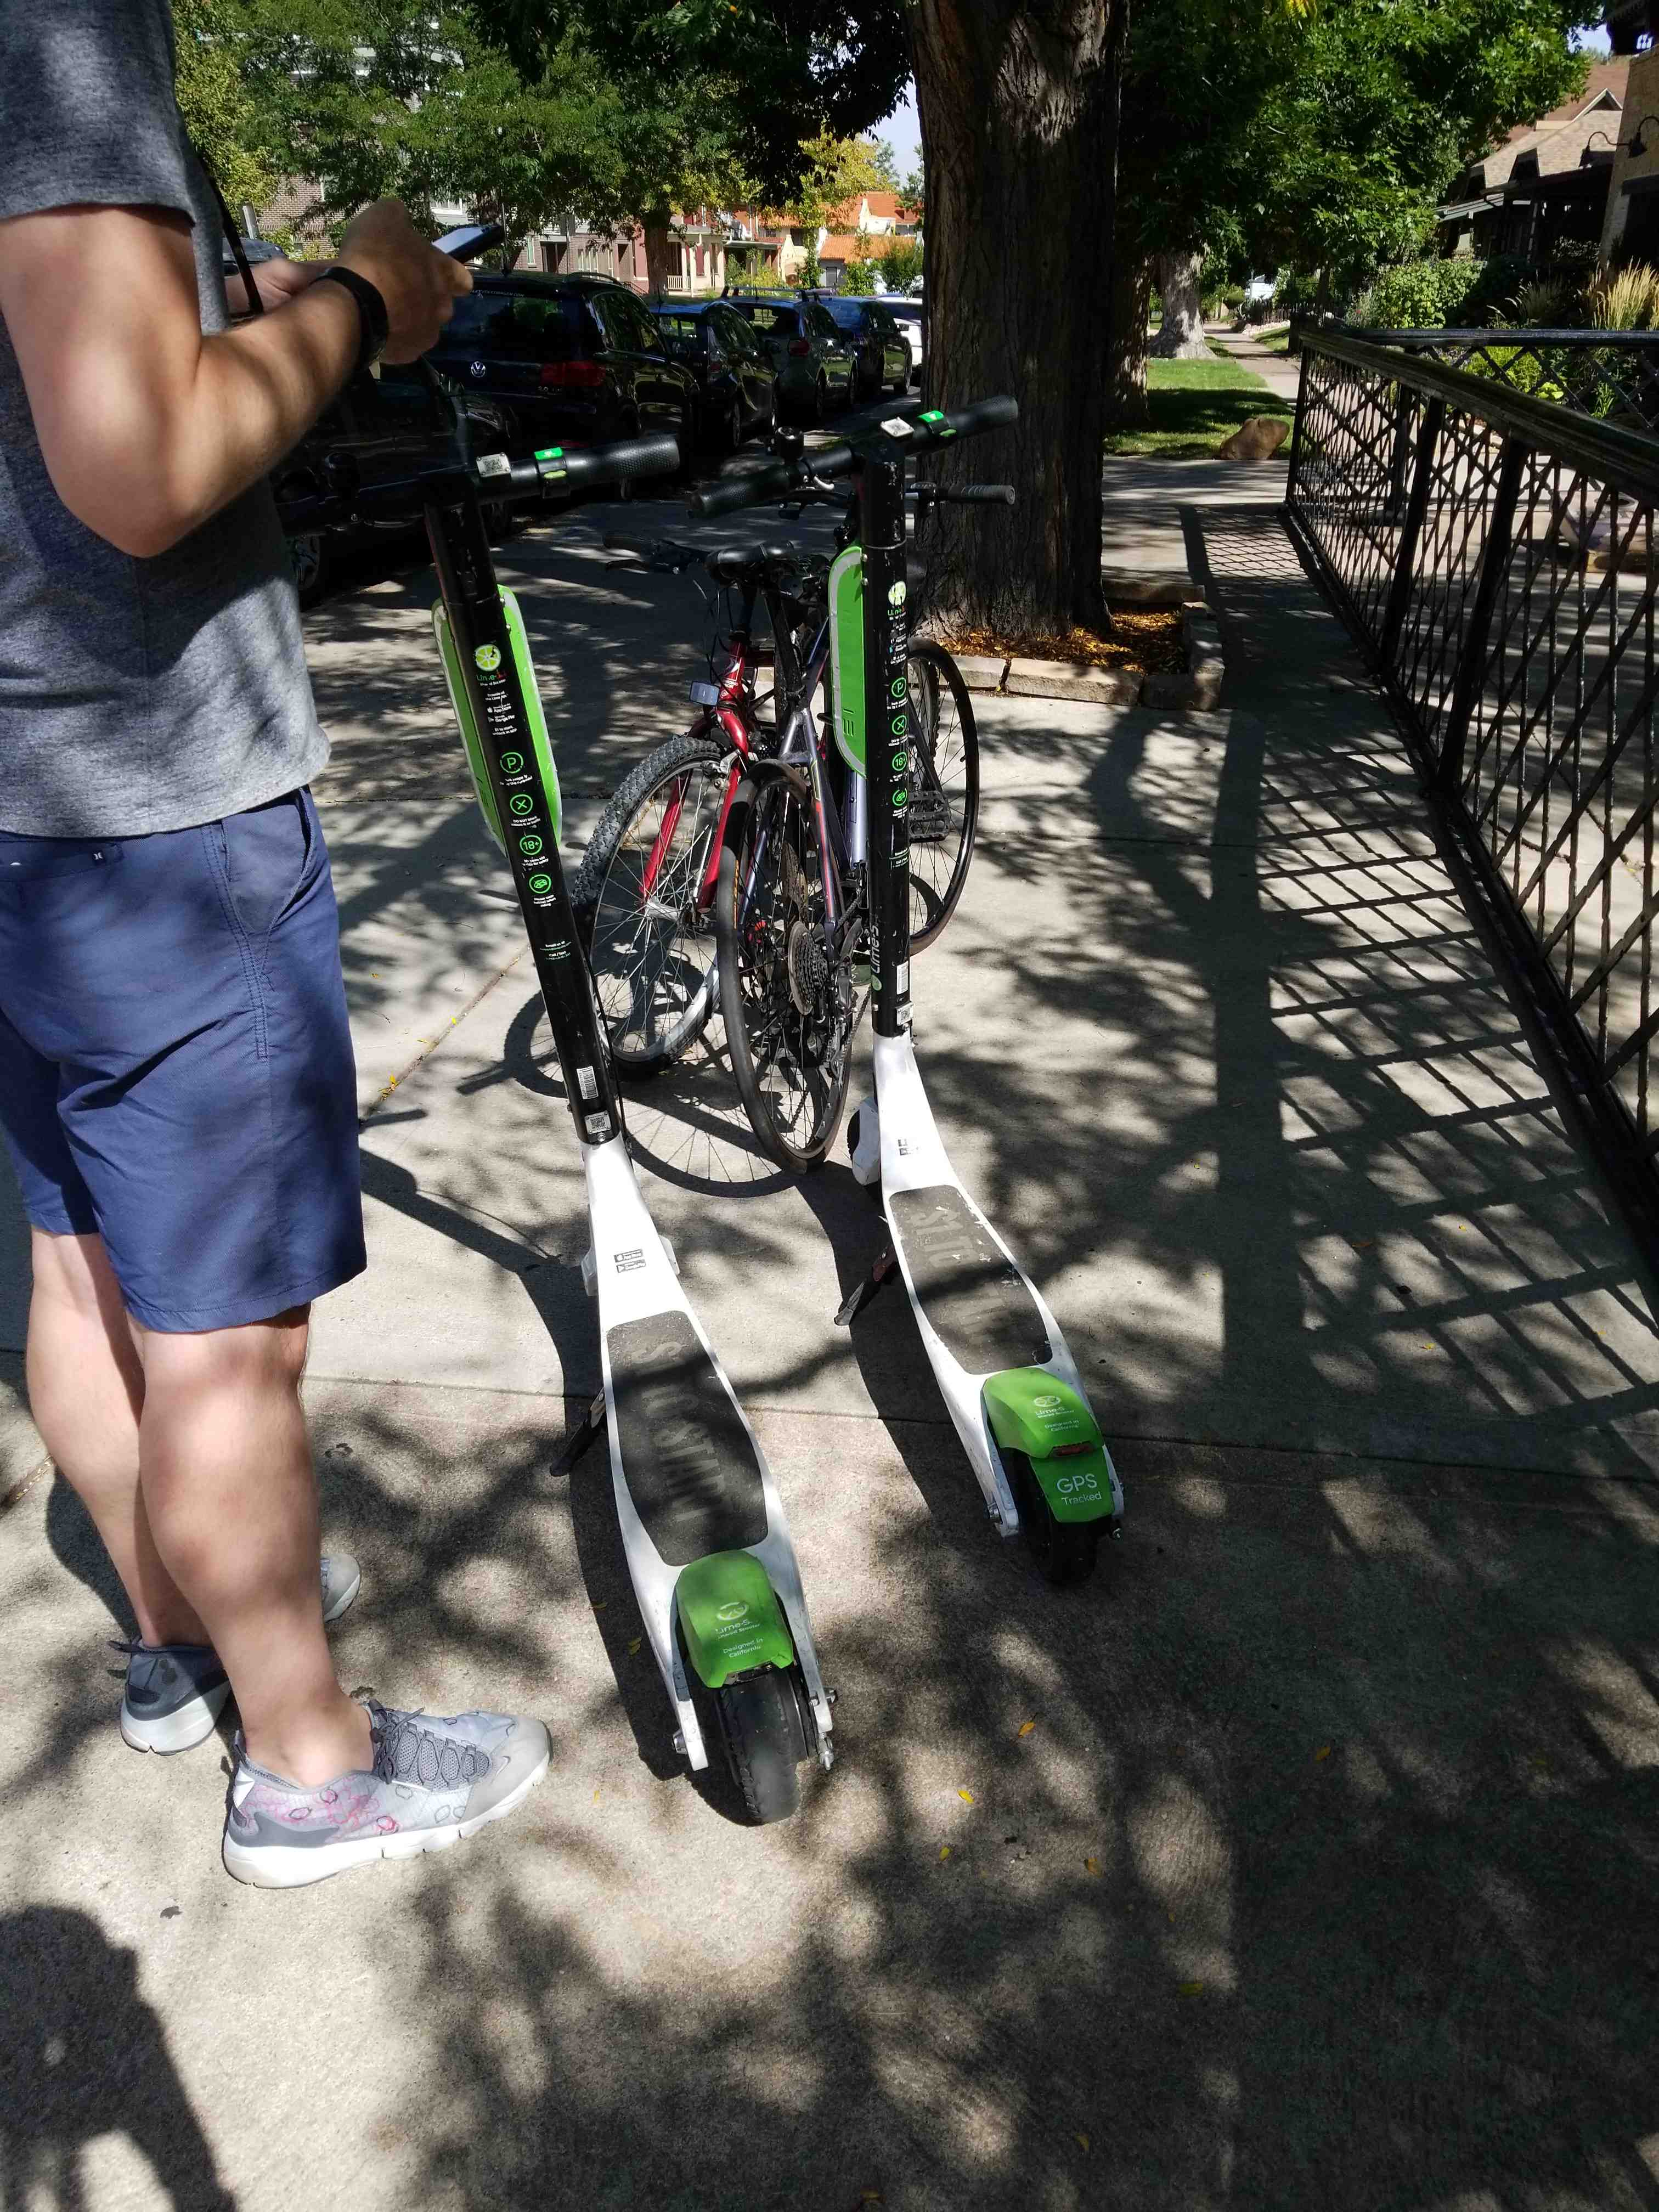scooter: (218, 409, 871, 1834), (683, 366, 1148, 1618)
